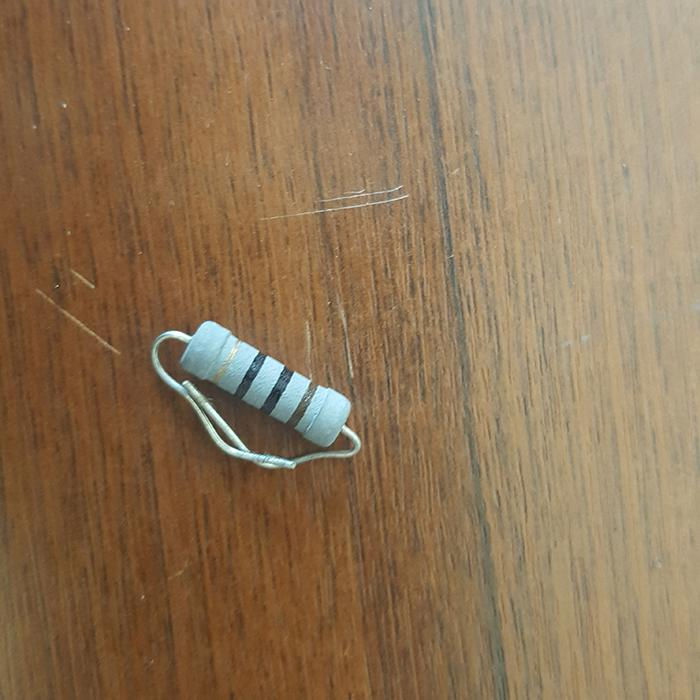resistor: (176, 318, 353, 446)
